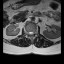CCS_normal: (30, 29, 32, 38)
LFS_normal: (34, 29, 36, 36)
LLS_normal: (32, 29, 34, 36)
RFS_normal: (26, 29, 28, 36)
RLS_normal: (28, 29, 30, 36)
